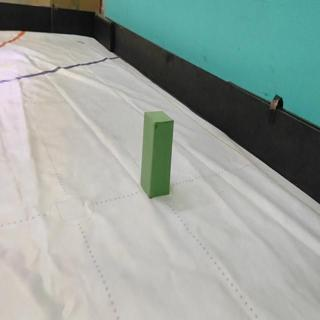greenbox: (141, 109, 174, 200)
